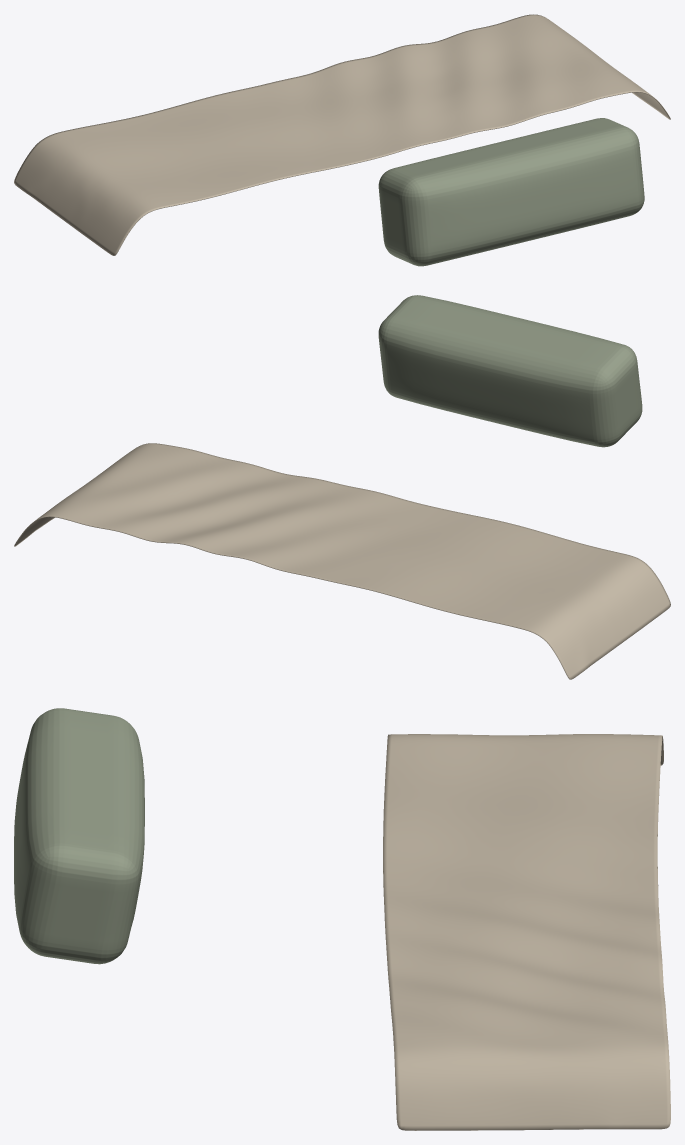
File: bed-linen.glb
3 renders of one model, top to bottom at view 1: azimuth 30°, elevation 25°; view 2: azimuth 150°, elevation 25°; view 3: azimuth 270°, elevation 25°, orthographic. The views are drawn at different scales.
Parts seen in each view (by area): view 1: Washed linen runner with settled folds, Soft sage lumbar cushion; view 2: Washed linen runner with settled folds, Soft sage lumbar cushion; view 3: Washed linen runner with settled folds, Soft sage lumbar cushion.
Part boxes in pixels (x1,y1,x2,y2): Washed linen runner with settled folds: (14,14,670,255); Soft sage lumbar cushion: (378,118,644,266); Washed linen runner with settled folds: (14,443,670,679); Soft sage lumbar cushion: (378,295,642,447); Washed linen runner with settled folds: (383,734,670,1130); Soft sage lumbar cushion: (14,708,144,964).
Size of the model in its own units: 1.63 by 0.3602 by 1.24.
